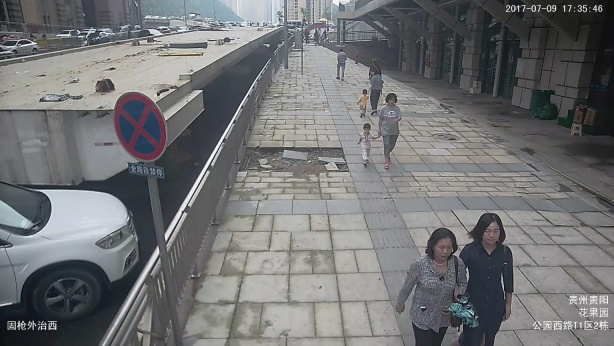person: (409, 219, 469, 346), (467, 213, 520, 345), (378, 92, 407, 175), (351, 121, 378, 171), (368, 60, 385, 118), (332, 43, 350, 87), (357, 87, 370, 117)
